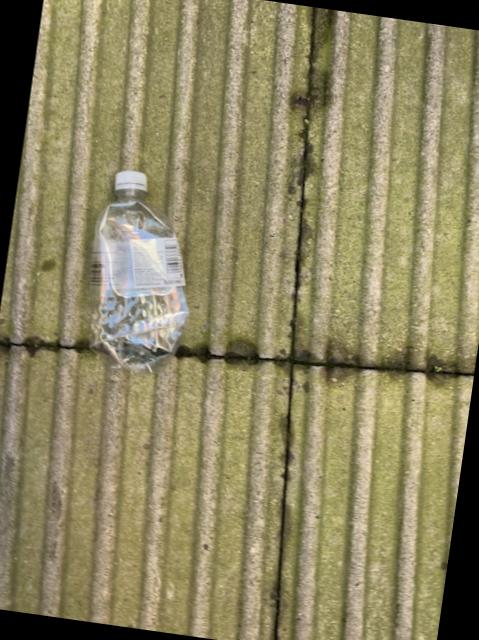plastic: (88, 170, 186, 371)
